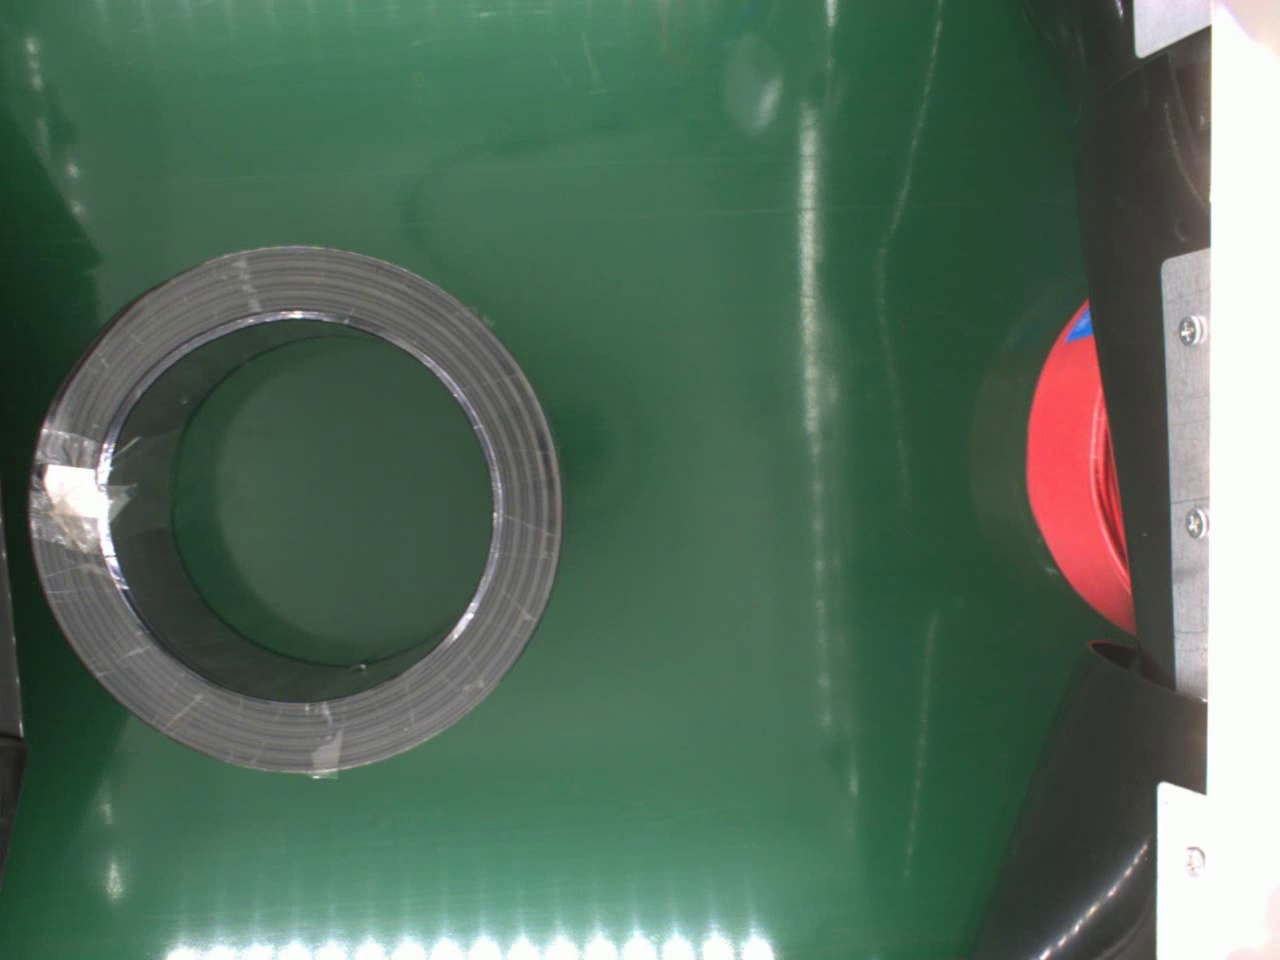black: (25, 239, 567, 770)
